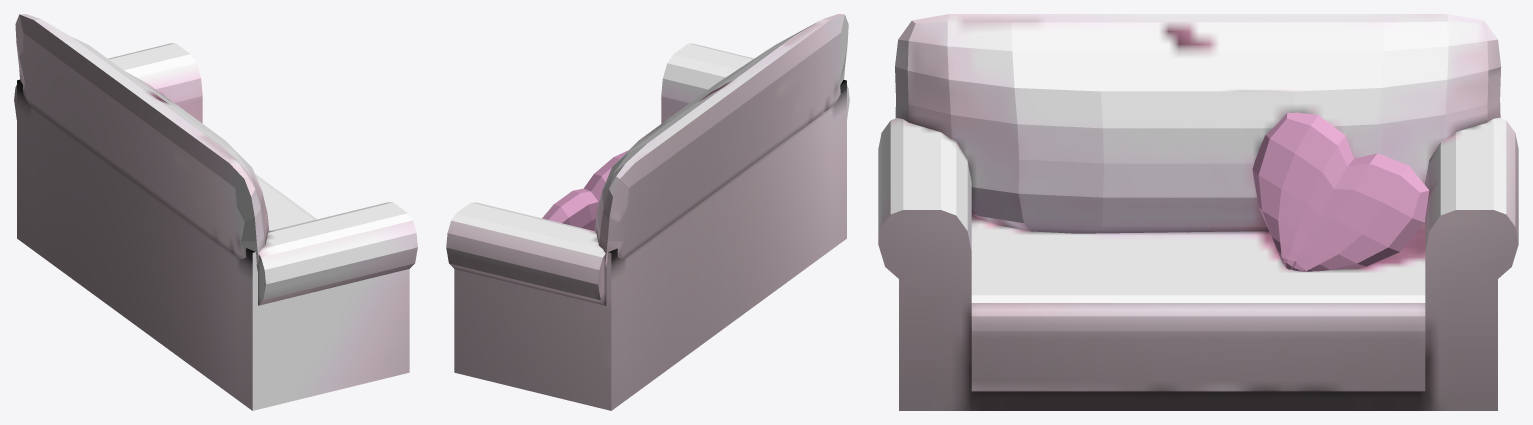
File: sofa.glb
3 renders of one model, left to right at view 1: azimuth 30°, elevation 25°; view 2: azimuth 150°, elevation 25°; view 3: azimuth 270°, elevation 25°, orthographic. The views are drawn at different scales.
Visible parts, largest first — view 1: sofa; view 2: sofa, Cube.001; view 3: sofa, Cube.001.
Part boxes in pixels (<box>): sofa: <box>14,14,417,410</box>; sofa: <box>446,14,849,410</box>; Cube.001: <box>542,150,628,231</box>; sofa: <box>878,14,1518,410</box>; Cube.001: <box>1252,112,1429,271</box>.
Bounding box in the file's own units: 0.7448 × 0.981 × 1.91.
Materials: 2 (1 with a texture image).
